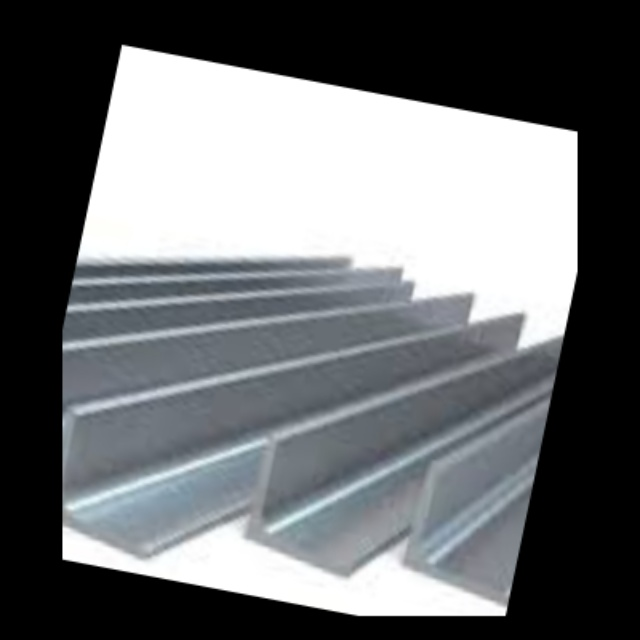Angle: (406, 470, 524, 601), (248, 446, 364, 575), (62, 421, 165, 557)
